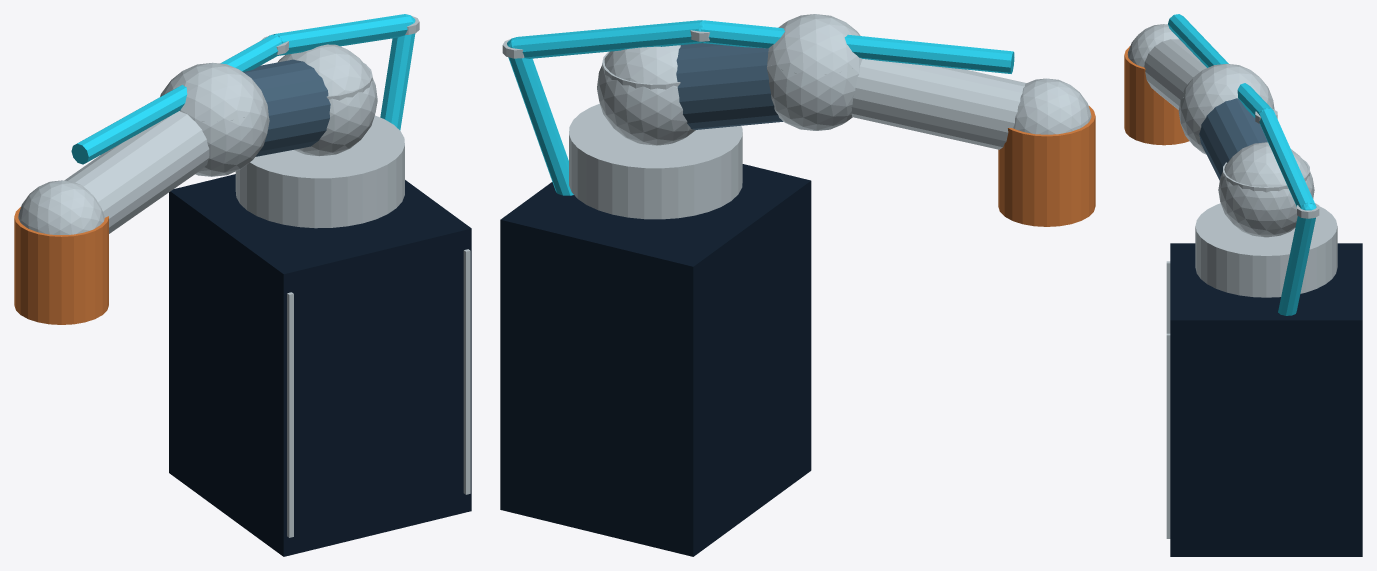
File: 23_L73_PadConditioningSwingArm.fbx
3 views of the same model, side by side, from view 1: azimuth 30°, elevation 25°; view 2: azimuth 150°, elevation 25°; view 3: azimuth 270°, elevation 25° (orthographic). The views are drawn at different scales.
Visible parts, largest first — view 1: PadConditioningSwingArm, PadConditioningSwingArm_Part_0014, PadConditioningSwingArm_Part_0011, PadConditioningSwingArm_Part_0010, PadConditioningSwingArm_Part_0008, PadConditioningSwingArm_Part_0009, PadConditioningSwingArm_Part_0013; view 2: PadConditioningSwingArm, PadConditioningSwingArm_Part_0011, PadConditioningSwingArm_Part_0014, PadConditioningSwingArm_Part_0010, PadConditioningSwingArm_Part_0008, PadConditioningSwingArm_Part_0009, PadConditioningSwingArm_Part_0013; view 3: PadConditioningSwingArm, PadConditioningSwingArm_Part_0009, PadConditioningSwingArm_Part_0010, PadConditioningSwingArm_Part_0014, PadConditioningSwingArm_Part_0008, PadConditioningSwingArm_Part_0011, PadConditioningSwingArm_Part_0013, PadConditioningSwingArm_Part_0016.
Boxes of the visible parts, left/top/right/bottom form: PadConditioningSwingArm: left=71, top=14, right=471, bottom=556; PadConditioningSwingArm_Part_0014: left=14, top=207, right=108, bottom=324; PadConditioningSwingArm_Part_0011: left=64, top=111, right=209, bottom=233; PadConditioningSwingArm_Part_0010: left=160, top=62, right=269, bottom=176; PadConditioningSwingArm_Part_0008: left=243, top=59, right=330, bottom=156; PadConditioningSwingArm_Part_0009: left=278, top=44, right=377, bottom=156; PadConditioningSwingArm_Part_0013: left=18, top=180, right=104, bottom=234; PadConditioningSwingArm: left=500, top=20, right=1014, bottom=556; PadConditioningSwingArm_Part_0011: left=851, top=59, right=1026, bottom=149; PadConditioningSwingArm_Part_0014: left=998, top=106, right=1095, bottom=226; PadConditioningSwingArm_Part_0010: left=767, top=14, right=862, bottom=130; PadConditioningSwingArm_Part_0008: left=676, top=43, right=783, bottom=129; PadConditioningSwingArm_Part_0009: left=597, top=45, right=695, bottom=145; PadConditioningSwingArm_Part_0013: left=1013, top=78, right=1091, bottom=134; PadConditioningSwingArm: left=1166, top=14, right=1362, bottom=556; PadConditioningSwingArm_Part_0009: left=1218, top=142, right=1314, bottom=237; PadConditioningSwingArm_Part_0010: left=1178, top=63, right=1274, bottom=154; PadConditioningSwingArm_Part_0014: left=1124, top=46, right=1189, bottom=145; PadConditioningSwingArm_Part_0008: left=1199, top=98, right=1267, bottom=180; PadConditioningSwingArm_Part_0011: left=1144, top=39, right=1206, bottom=109; PadConditioningSwingArm_Part_0013: left=1127, top=24, right=1179, bottom=67; PadConditioningSwingArm_Part_0016: left=1223, top=159, right=1309, bottom=192.
Size of the model in its own units: 224 by 210 by 114.
